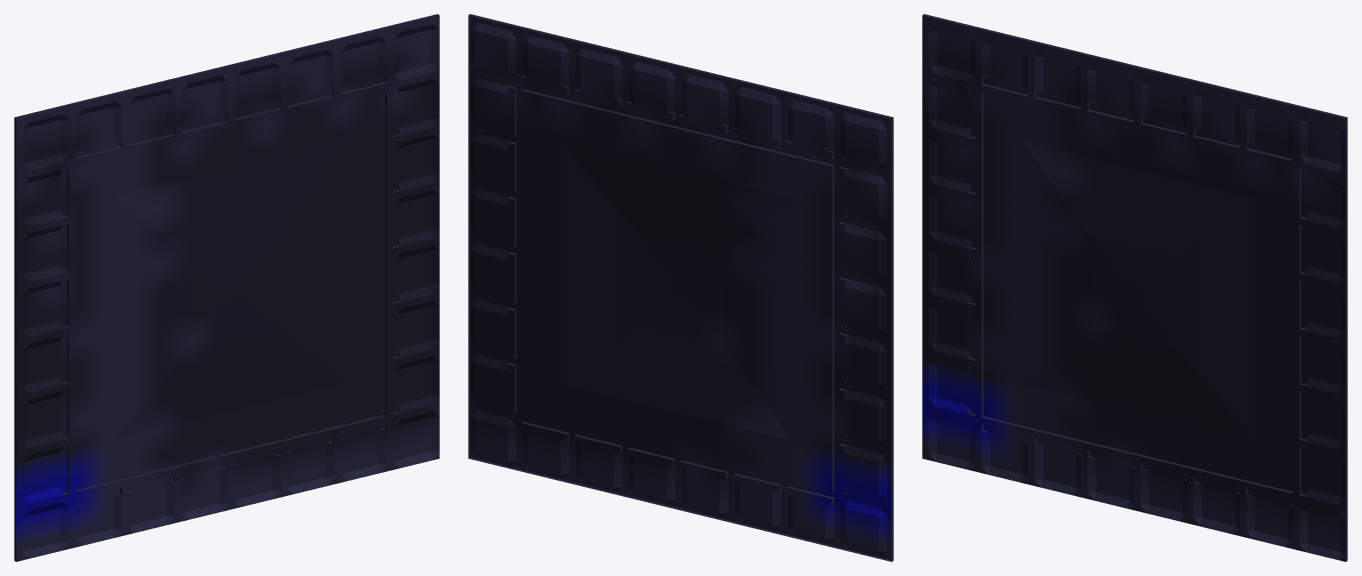
File: med1_6.fbx
3 views of the same model, side by side, from view 1: azimuth 30°, elevation 25°; view 2: azimuth 150°, elevation 25°; view 3: azimuth 330°, elevation 25° (orthographic).
Parts seen in each view (by area): view 1: med1_6_mesh; view 2: med1_6_mesh; view 3: med1_6_mesh.
Boxes of the visible parts, box(x1,y1,x2,y2) form: med1_6_mesh: box(14, 14, 439, 561); med1_6_mesh: box(468, 14, 893, 561); med1_6_mesh: box(922, 14, 1347, 561).
Bounding box in the file's own units: 256 × 256 × 4.51.
